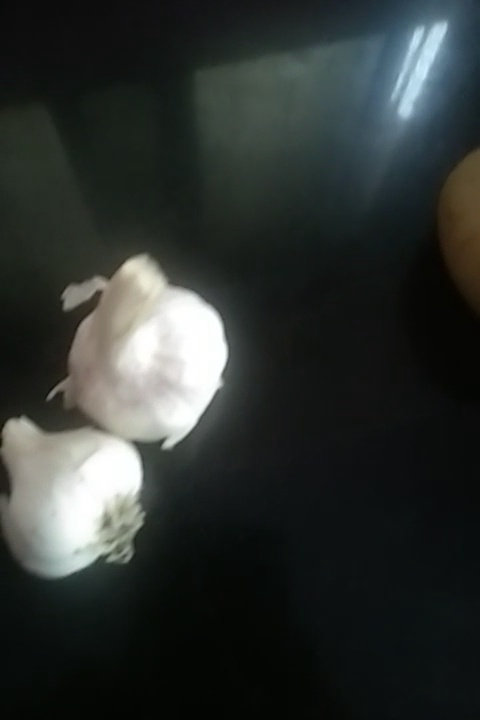garlic: (67, 277, 226, 464), (3, 411, 165, 583)
potato: (432, 155, 480, 303)
